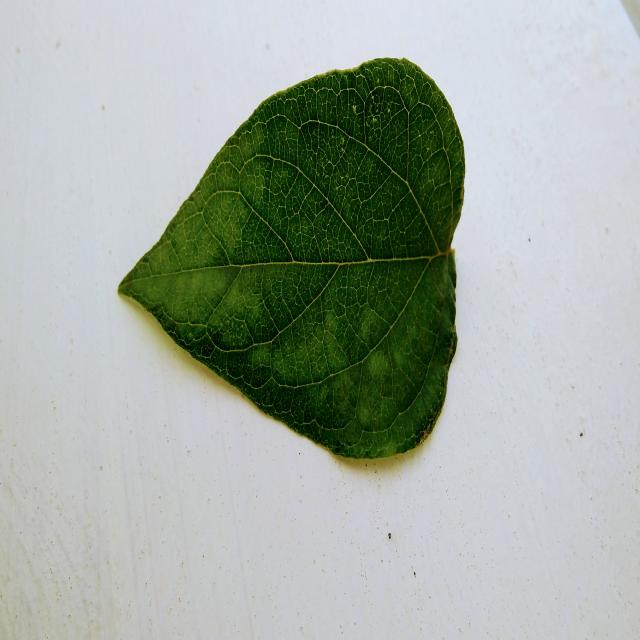Parijatha: (119, 58, 465, 458)
